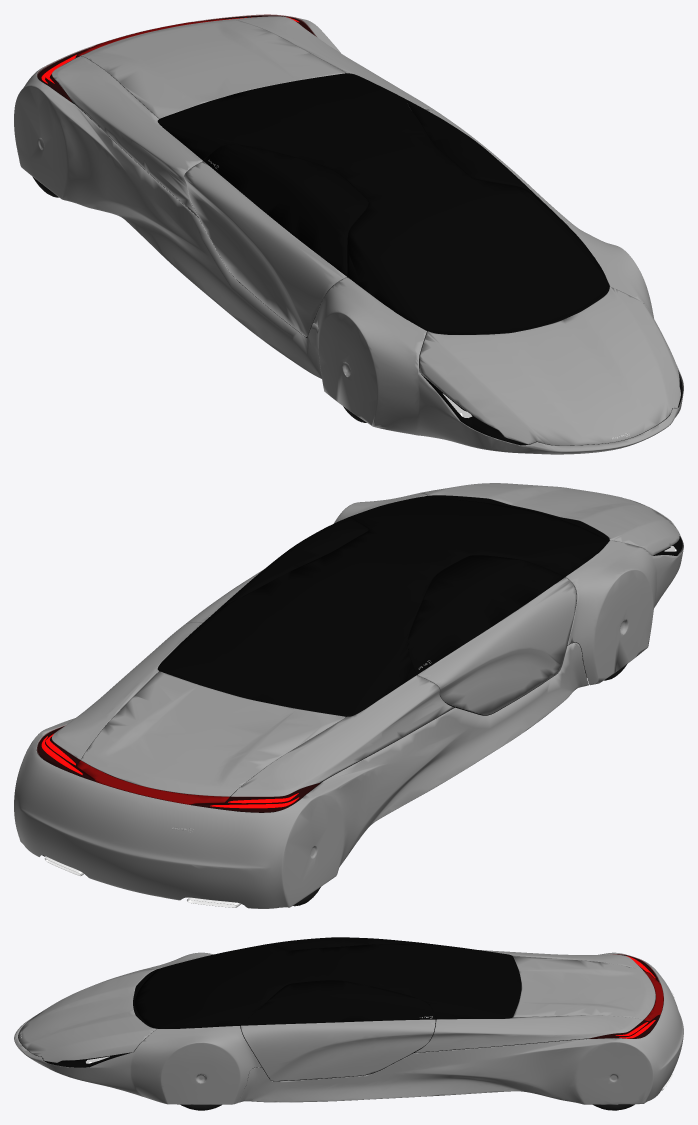
File: concept-033.glb
The picture shows the model from 3 angles, top to bottom: view 1: azimuth 30°, elevation 25°; view 2: azimuth 150°, elevation 25°; view 3: azimuth 270°, elevation 25°; orthographic projection. The views are drawn at different scales.
Visible parts, largest first — view 1: Object_11, Object_17, Object_7, Object_9, Object_6; view 2: Object_11, Object_17, Object_6, Object_8, Object_7, Object_4; view 3: Object_11, Object_17, Object_7, Object_6, Object_8, Object_18, Object_9, Object_4.
Part boxes in pixels (x1,y1,x2,y2): Object_11: (14, 14, 683, 454); Object_17: (158, 73, 682, 445); Object_7: (52, 67, 672, 445); Object_9: (422, 364, 683, 445); Object_6: (37, 15, 314, 102); Object_11: (14, 483, 683, 908); Object_17: (158, 496, 682, 716); Object_6: (37, 726, 319, 812); Object_8: (77, 760, 229, 804); Object_7: (42, 495, 675, 856); Object_4: (41, 734, 299, 808); Object_11: (14, 950, 683, 1104); Object_17: (44, 937, 521, 1067); Object_7: (18, 968, 663, 1081); Object_6: (589, 954, 659, 1038); Object_8: (644, 971, 663, 1021); Object_18: (180, 1104, 634, 1110); Object_9: (45, 1053, 127, 1067); Object_4: (615, 956, 655, 1038).
Size of the model in its own units: 1.9 by 1.03 by 5.91.
14 materials, 1 textured.
